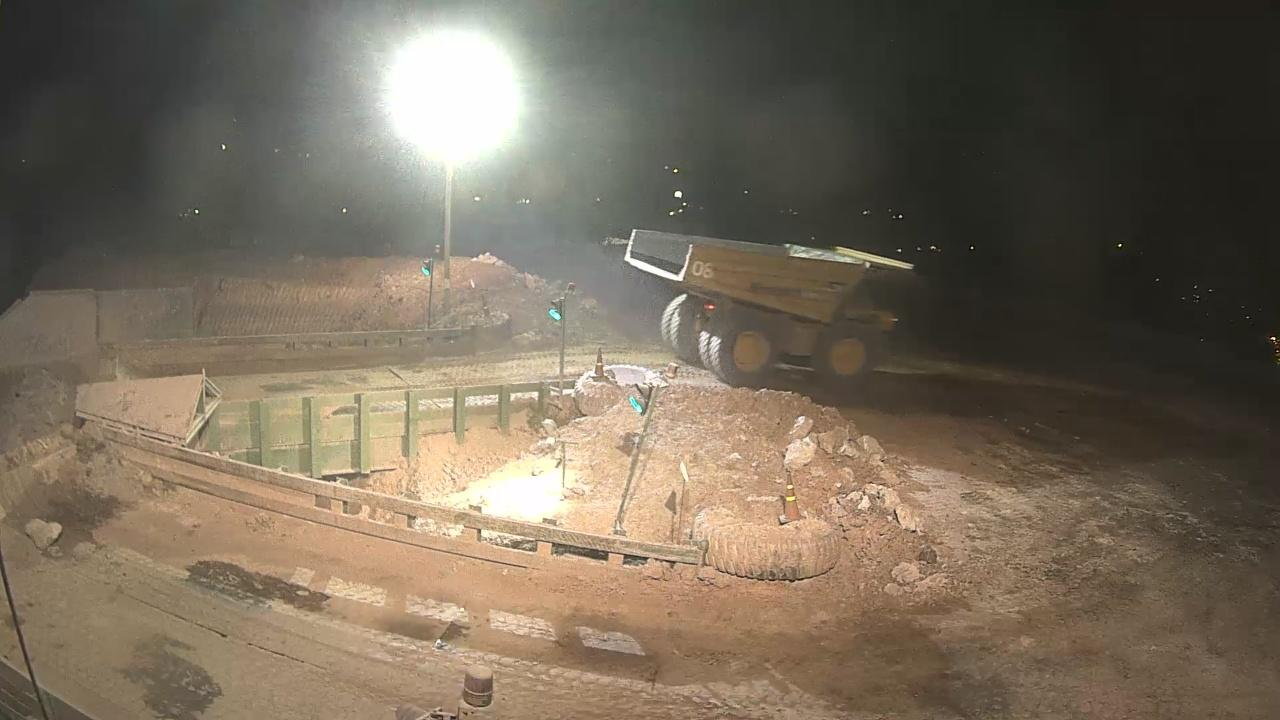mining_truck: (612, 226, 925, 391)
tail_number: (687, 259, 719, 283)
